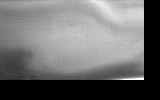cell: (69, 57, 92, 77)
